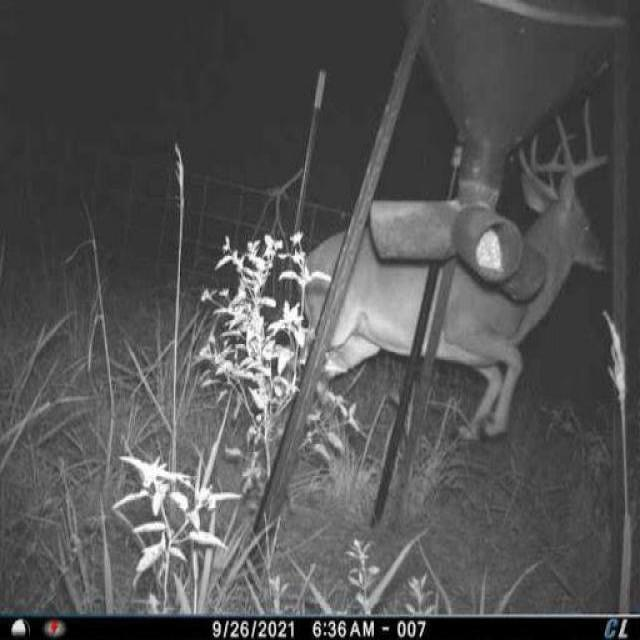deer: (281, 86, 615, 463)
